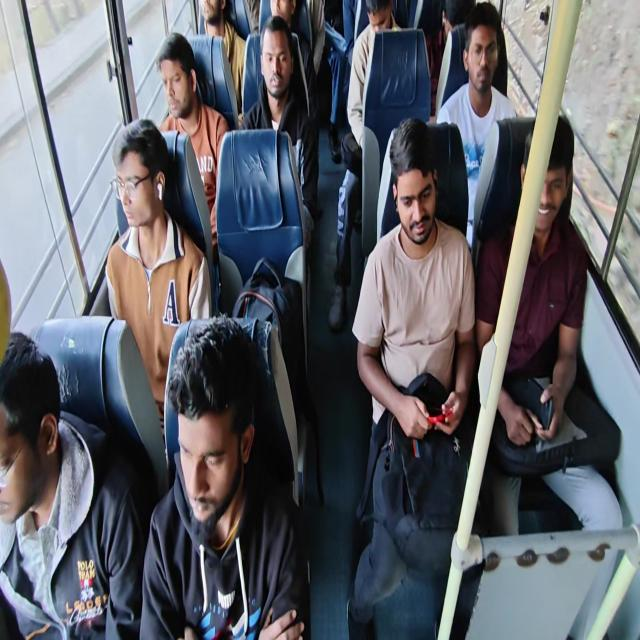person: (164, 346, 246, 592), (501, 120, 602, 266), (0, 371, 75, 553), (105, 119, 183, 288), (404, 146, 461, 295), (152, 32, 194, 126), (256, 24, 293, 121), (462, 29, 501, 100), (311, 0, 355, 62), (257, 0, 290, 48), (363, 0, 388, 61), (196, 0, 222, 45), (442, 0, 462, 42)
